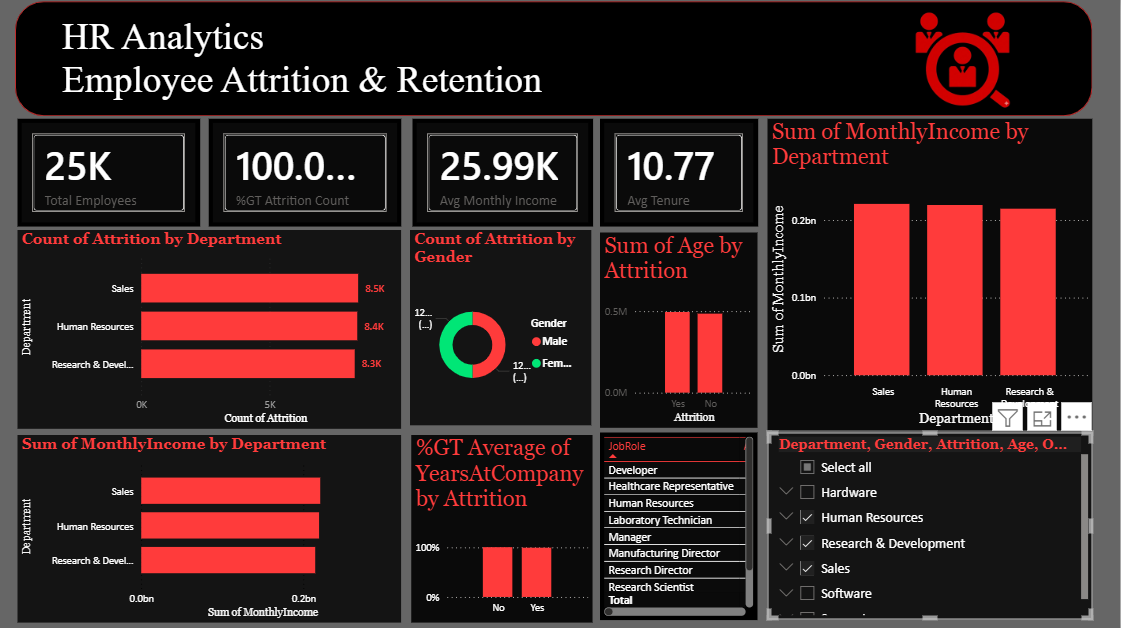

This screenshot's page, from the dashboard's own definition file:
{"tool":"powerbi","page":{"name":"Page 1","canvas":[1280,720],"ordinal":0},"visuals":[{"type":"shape","box":[17.5,1.2,1231.2,131.2],"z":0},{"type":"textbox","box":[65.7,11.4,1017.1,144.3],"z":1000},{"type":"cardVisual","fields":{"Data":["HR_1.Avg Monthly Income"]},"box":[470.9,136.2,206.2,123.4],"z":2000},{"type":"cardVisual","fields":{"Data":["HR_1.Avg Tenure"]},"box":[685.9,136.2,180.7,123.4],"z":3000},{"type":"clusteredBarChart","fields":{"Category":["HR_1.Department"],"Y":["CountNonNull(HR_1.Attrition)"]},"box":[20,262.9,438.6,227.1],"z":4000},{"type":"donutChart","fields":{"Y":["CountNonNull(HR_1.Attrition)"],"Category":["HR_1.Gender"]},"box":[468.6,262.9,207.1,222.9],"z":6000},{"type":"columnChart","fields":{"Y":["Sum(HR_2.MonthlyIncome)"],"Category":["HR_1.Department"]},"box":[877.1,136.3,371.6,355.9],"z":7000},{"type":"columnChart","fields":{"Y":["Sum(HR_2.YearsAtCompany)"],"Category":["HR_1.Attrition"]},"box":[470,497.1,207.1,214.3],"z":8000},{"type":"columnChart","fields":{"Y":["Sum(HR_1.Age)"],"Category":["HR_1.Attrition"]},"box":[685.7,265.7,180,222.9],"z":9000},{"type":"pivotTable","fields":{"Rows":["HR_1.JobRole"],"Values":["HR_1.Avg Work-Life Balance"]},"box":[685.7,494.3,180,214.3],"z":10000},{"type":"slicer","fields":{"Values":["HR_1.Department","HR_1.Gender","HR_1.Attrition","HR_1.Age","HR_2.OverTime"]},"box":[20,497.1,438.6,214.3],"z":11000},{"type":"cardVisual","fields":{"Data":["HR_1.Total Employees"]},"box":[20.4,136.2,208.7,123.4],"z":12000},{"type":"cardVisual","fields":{"Data":["HR_1.Attrition Count"]},"box":[239.3,136.2,220.2,123.4],"z":13000},{"type":"image","box":[1022.9,11.4,154.3,112.9],"z":14000},{"type":"treemap","fields":{"Group":["HR_1.Attrition"],"Values":["Sum(HR_2.PercentSalaryHike)"]},"box":[877,494,372,214],"z":14001}]}

Visuals, with their boxes in screenshot pixels (x1, y1, x2, y2), scaled from the page's 1280x720 canvas onto the 1121x628 screenshot:
shape: box=[15, 1, 1094, 115]
textbox: box=[58, 10, 948, 136]
cardVisual - HR_1.Avg Monthly Income: box=[412, 119, 593, 226]
cardVisual - HR_1.Avg Tenure: box=[601, 119, 759, 226]
clusteredBarChart - HR_1.Department x CountNonNull(HR_1.Attrition): box=[18, 229, 402, 427]
donutChart - CountNonNull(HR_1.Attrition) x HR_1.Gender: box=[410, 229, 592, 424]
columnChart - Sum(HR_2.MonthlyIncome) x HR_1.Department: box=[768, 119, 1094, 429]
columnChart - Sum(HR_2.YearsAtCompany) x HR_1.Attrition: box=[412, 434, 593, 620]
columnChart - Sum(HR_1.Age) x HR_1.Attrition: box=[601, 232, 758, 426]
pivotTable - HR_1.JobRole x HR_1.Avg Work-Life Balance: box=[601, 431, 758, 618]
slicer - HR_1.Department x HR_1.Gender: box=[18, 434, 402, 620]
cardVisual - HR_1.Total Employees: box=[18, 119, 201, 226]
cardVisual - HR_1.Attrition Count: box=[210, 119, 402, 226]
image: box=[896, 10, 1031, 108]
treemap - HR_1.Attrition x Sum(HR_2.PercentSalaryHike): box=[768, 431, 1094, 618]
